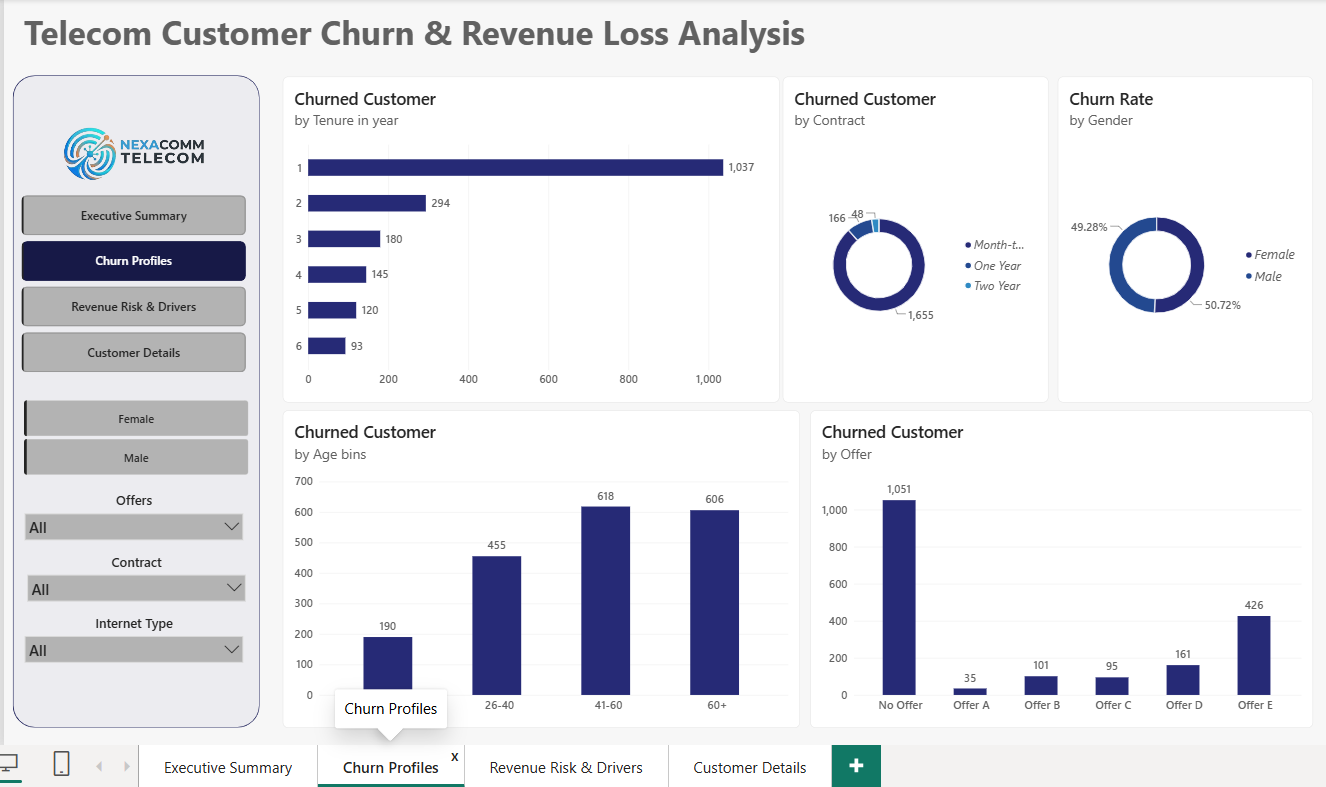

The dashboard page shown, as its layout file describes it:
{"tool":"powerbi","page":{"name":"Churn Profiles","canvas":[1920,1080],"ordinal":1},"visuals":[{"type":"clusteredColumnChart","fields":{"Y":["Calculations.Churned Customer"],"Category":["fact_table.Age bins"]},"box":[403.8,596.2,749.1,460.4],"z":0},{"type":"donutChart","fields":{"Category":["dim_customer.Gender"],"Y":["Calculations.Churn Rate"]},"box":[1526.4,111.3,369.8,471.7],"z":1000},{"type":"donutChart","fields":{"Category":["dim_contract.Contract"],"Y":["Calculations.Churned Customer"]},"box":[1128.3,111.3,384.9,471.7],"z":2000},{"type":"clusteredBarChart","fields":{"Category":["fact_table.Tenure in year"],"Y":["Calculations.Churned Customer"]},"box":[403.8,111.3,718.9,471.7],"z":3000},{"type":"columnChart","fields":{"Category":["dim_offer.Offer"],"Y":["Calculations.Churned Customer"]},"box":[1167.9,596.2,728.3,460.4],"z":4000},{"type":"textbox","box":[29.6,14.8,1866.7,79.6],"z":5000},{"type":"shape","box":[13,111.1,357.4,944.4],"z":6000},{"type":"pageNavigator","box":[25.3,284.1,325.7,257],"z":7000},{"type":"advancedSlicerVisual","fields":{"Values":["dim_customer.Gender"]},"box":[29,580.9,325.7,108.6],"z":8000},{"type":"slicer","title":"Offers","fields":{"Values":["dim_offer.Offer"]},"box":[25.3,713,325.7,88.7],"z":9000},{"type":"slicer","title":"Contract","fields":{"Values":["dim_contract.Contract"]},"box":[29,801.7,325.7,88.7],"z":10000},{"type":"slicer","title":"Internet Type","fields":{"Values":["dim_internet_type.Internet Type"]},"box":[25.3,890.4,325.7,88.7],"z":11000},{"type":"image","box":[25.3,177.3,325.7,90.5],"z":12000}]}

Visuals, with their boxes on the page's 1920x1080 design canvas (x1, y1, x2, y2). These are canvas units, not pixel positions in the 1326x787 screenshot, which may show the page scaled, cropped or inside an application window:
clusteredColumnChart - Calculations.Churned Customer x fact_table.Age bins: bbox=[404, 596, 1153, 1057]
donutChart - dim_customer.Gender x Calculations.Churn Rate: bbox=[1526, 111, 1896, 583]
donutChart - dim_contract.Contract x Calculations.Churned Customer: bbox=[1128, 111, 1513, 583]
clusteredBarChart - fact_table.Tenure in year x Calculations.Churned Customer: bbox=[404, 111, 1123, 583]
columnChart - dim_offer.Offer x Calculations.Churned Customer: bbox=[1168, 596, 1896, 1057]
textbox: bbox=[30, 15, 1896, 94]
shape: bbox=[13, 111, 370, 1056]
pageNavigator: bbox=[25, 284, 351, 541]
advancedSlicerVisual - dim_customer.Gender: bbox=[29, 581, 355, 690]
"Offers" slicer: bbox=[25, 713, 351, 802]
"Contract" slicer: bbox=[29, 802, 355, 890]
"Internet Type" slicer: bbox=[25, 890, 351, 979]
image: bbox=[25, 177, 351, 268]
